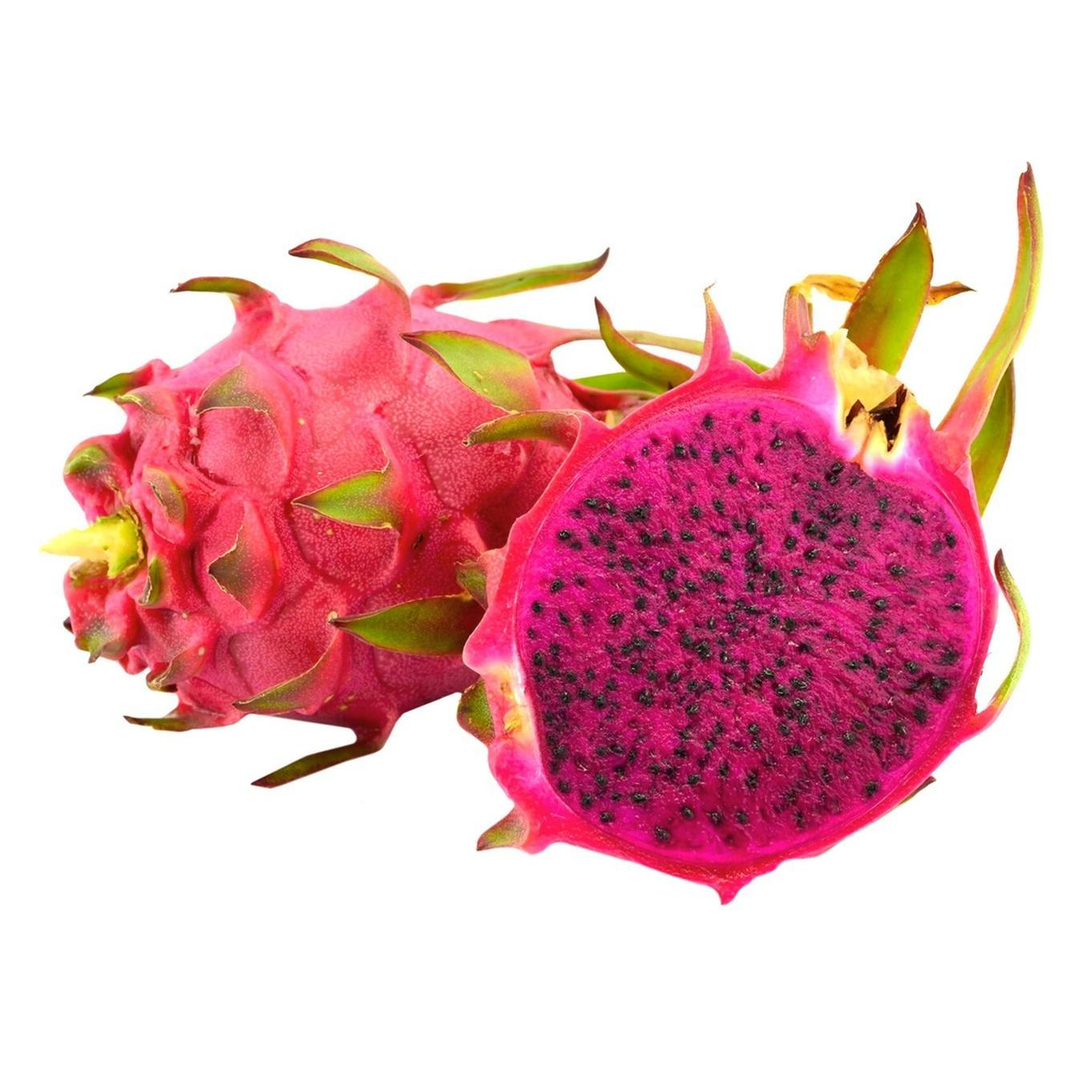dragon-fruit: (482, 369, 1003, 886), (60, 302, 585, 729)
